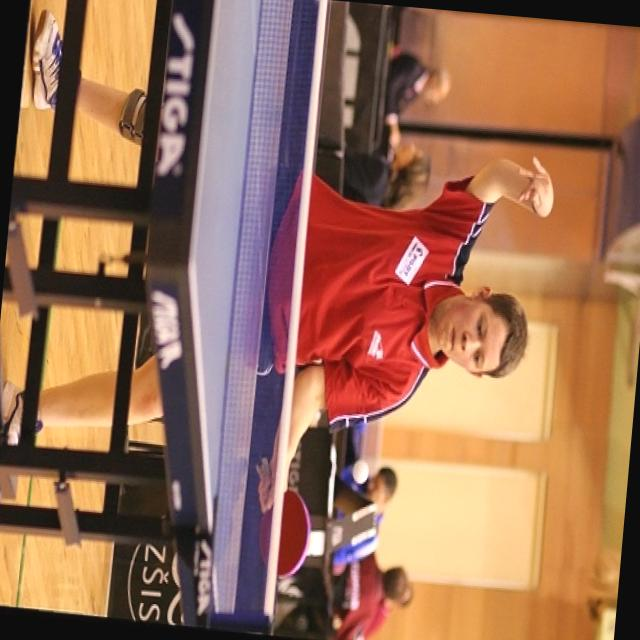TT Net: (195, 0, 335, 636)
TT Racket: (253, 438, 321, 596)
TT Table: (151, 0, 294, 632)
